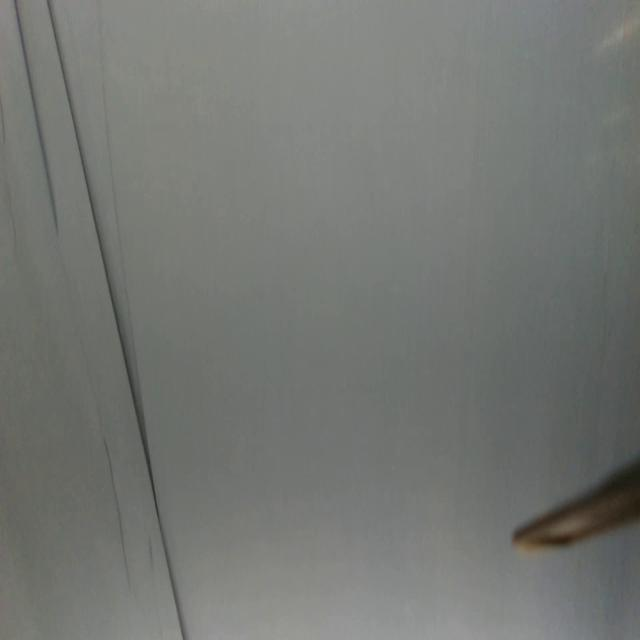crease: (50, 0, 186, 640), (15, 2, 61, 233), (105, 440, 132, 592)
